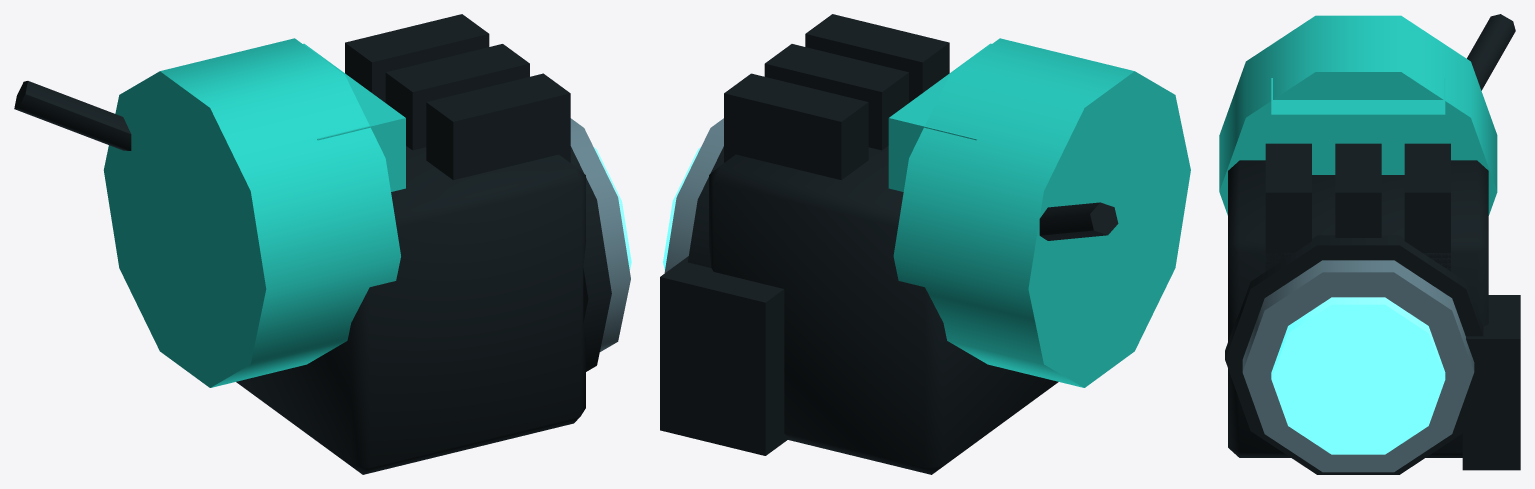
Rendered from invocador_guante.glb.
3 views of the same model, side by side, from view 1: azimuth 30°, elevation 25°; view 2: azimuth 150°, elevation 25°; view 3: azimuth 270°, elevation 25° (orthographic). The views are drawn at different scales.
Visible parts, largest first — view 1: invocador_guante; view 2: invocador_guante; view 3: invocador_guante.
Boxes of the visible parts, x1=… form: invocador_guante: x1=14, y1=14, x2=631, y2=474; invocador_guante: x1=660, y1=14, x2=1190, y2=474; invocador_guante: x1=1219, y1=14, x2=1520, y2=474.
Bounding box in the file's own units: 0.1648 × 0.1194 × 0.104.
